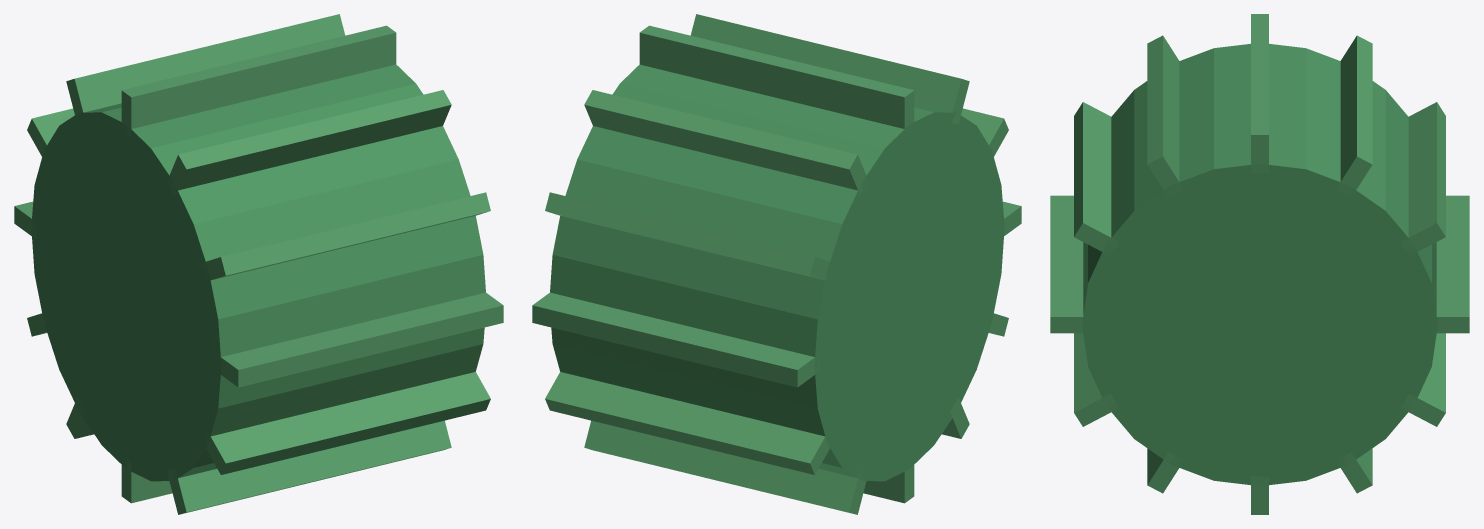
File: wheel_agricultural.glb
3 renders of one model, left to right at view 1: azimuth 30°, elevation 25°; view 2: azimuth 150°, elevation 25°; view 3: azimuth 270°, elevation 25°, orthographic. The views are drawn at different scales.
Parts seen in each view (by area): view 1: geometry_0; view 2: geometry_0; view 3: geometry_0.
Part boxes in pixels (x1,y1,x2,y2): geometry_0: (14, 14, 503, 514); geometry_0: (532, 14, 1021, 514); geometry_0: (1050, 14, 1469, 514).
Size of the model in its own units: 0.19 by 0.278 by 0.278.
